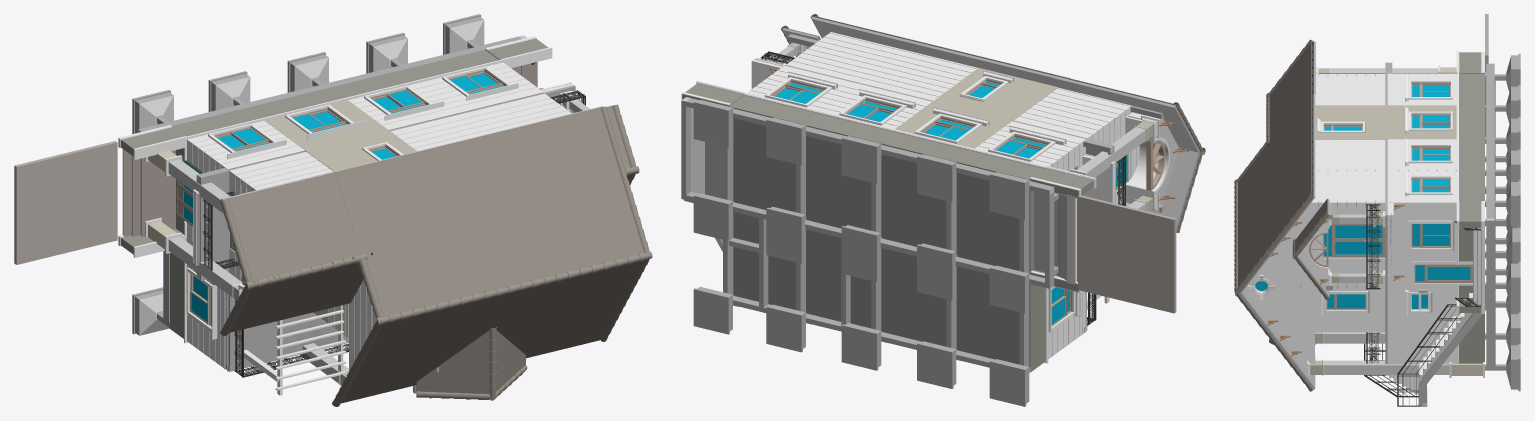
Rendered from Building_DemoAR.gltf.
The picture shows the model from 3 angles, left to right: view 1: azimuth 30°, elevation 25°; view 2: azimuth 150°, elevation 25°; view 3: azimuth 270°, elevation 25°; orthographic projection. The views are drawn at different scales.
Parts seen in each view (by area): view 1: FootPrintRoof Roofs <639650 Generic - 125mm 2>, FootPrintRoof Roofs <640365 Generic - 125mm 2>, Floor Floors <1150203 San gach ngoai san>, Wall Walls <639594 W-Ex - 200mm_Tang 1-Op gach trong>, FamilySymbol Structural Foundations <1166554 Mong don 1400x1 (×6), Wall Walls <639601 W-Ex - 200mm_Op gach trong>, Floor Floors <1172969 Sàn kết cấu 100>, Wall Walls <848535 W-Ex - 30mm>, ExtrusionRoof Roofs <695702 Generic - 125mm 2>, FamilySymbol Windows <1046854 1600x1700> (×3), FamilySymbol Windows <1046924 1600x1700> (×2), FamilySymbol Generic Models <823069 Tipo 2> (+20 smaller); view 2: Floor Floors <639599 BTCT_T.Trệt_Ceramic_500mm>, FamilySymbol Structural Foundations <1166554 Mong don 1400x1 (×12), FamilyInstance Structural Framing M_Concrete-Rectangular Bea (×12), Wall Walls <639601 W-Ex - 200mm_Op gach trong>, Floor Floors <1150203 San gach ngoai san>, Wall Walls <639594 W-Ex - 200mm_Tang 1-Op gach trong>, FamilySymbol Structural Foundations <1166596 Mong don 1400x1 (×3), Wall Walls <848535 W-Ex - 30mm>, FootPrintRoof Roofs <1039391 mai bt>, FamilySymbol Windows <1046854 1600x1700> (×3), FootPrintRoof Roofs <1039385 mai bt>, FamilySymbol Windows <1046924 1600x1700> (×2) (+19 smaller); view 3: Wall Walls <815767 W-Ex - 200mm_Tang 1-Op gach trong>, FootPrintRoof Roofs <639650 Generic - 125mm 2>, Wall Walls <639594 W-Ex - 200mm_Tang 1-Op gach trong>, Wall Walls <639601 W-Ex - 200mm_Op gach trong>, Wall Walls <825141 W-Ex - 200mm_Op gach trong>, FamilySymbol Structural Foundations <1166554 Mong don 1400x1 (×8), Wall Walls <818138 W-Ex - 200mm_Op gach trong>, Wall Walls <848535 W-Ex - 30mm>, FamilyInstance Structural Framing M_Concrete-Rectangular Bea (×4), FamilySymbol Doors <879131 1600 x 2600>, FootPrintRoof Roofs <640365 Generic - 125mm 2>, FamilySymbol Windows <1046924 1600x1700> (×2) (+35 smaller).
Boxes of the visible parts, <box> form: FootPrintRoof Roofs <639650 Generic - 125mm 2>: <box>335,106,644,403</box>; FootPrintRoof Roofs <640365 Generic - 125mm 2>: <box>228,172,363,332</box>; Floor Floors <1150203 San gach ngoai san>: <box>14,141,117,264</box>; Wall Walls <639594 W-Ex - 200mm_Tang 1-Op gach trong>: <box>172,50,543,169</box>; FamilySymbol Structural Foundations <1166554 Mong don 1400x1 (×6): <box>132,14,484,335</box>; Wall Walls <639601 W-Ex - 200mm_Op gach trong>: <box>235,93,571,188</box>; Floor Floors <1172969 Sàn kết cấu 100>: <box>199,85,575,371</box>; Wall Walls <848535 W-Ex - 30mm>: <box>264,100,417,171</box>; ExtrusionRoof Roofs <695702 Generic - 125mm 2>: <box>416,327,525,394</box>; FamilySymbol Windows <1046854 1600x1700> (×3): <box>186,66,510,332</box>; FamilySymbol Windows <1046924 1600x1700> (×2): <box>208,85,432,152</box>; FamilySymbol Generic Models <823069 Tipo 2>: <box>376,251,652,325</box>; Floor Floors <639599 BTCT_T.Trệt_Ceramic_500mm>: <box>733,118,1019,364</box>; FamilySymbol Structural Foundations <1166554 Mong don 1400x1 (×12): <box>693,99,1029,406</box>; FamilyInstance Structural Framing M_Concrete-Rectangular Bea (×12): <box>681,97,1054,367</box>; Wall Walls <639601 W-Ex - 200mm_Op gach trong>: <box>786,32,1126,137</box>; Floor Floors <1150203 San gach ngoai san>: <box>1078,195,1176,313</box>; Wall Walls <639594 W-Ex - 200mm_Tang 1-Op gach trong>: <box>729,65,1085,179</box>; FamilySymbol Structural Foundations <1166596 Mong don 1400x1 (×3): <box>766,206,955,300</box>; Wall Walls <848535 W-Ex - 30mm>: <box>895,68,1058,148</box>; FootPrintRoof Roofs <1039391 mai bt>: <box>1053,76,1200,230</box>; FamilySymbol Windows <1046854 1600x1700> (×3): <box>764,77,1075,332</box>; FootPrintRoof Roofs <1039385 mai bt>: <box>811,16,1068,86</box>; FamilySymbol Windows <1046924 1600x1700> (×2): <box>839,95,1055,161</box>; Wall Walls <815767 W-Ex - 200mm_Tang 1-Op gach trong>: <box>1387,207,1484,364</box>; FootPrintRoof Roofs <639650 Generic - 125mm 2>: <box>1238,86,1311,387</box>; Wall Walls <639594 W-Ex - 200mm_Tang 1-Op gach trong>: <box>1387,73,1484,207</box>; Wall Walls <639601 W-Ex - 200mm_Op gach trong>: <box>1308,76,1385,207</box>; Wall Walls <825141 W-Ex - 200mm_Op gach trong>: <box>1244,207,1314,370</box>; FamilySymbol Structural Foundations <1166554 Mong don 1400x1 (×8): <box>1506,53,1520,391</box>; Wall Walls <818138 W-Ex - 200mm_Op gach trong>: <box>1310,207,1385,327</box>; Wall Walls <848535 W-Ex - 30mm>: <box>1315,105,1456,139</box>; FamilyInstance Structural Framing M_Concrete-Rectangular Bea (×4): <box>1420,76,1495,383</box>; FamilySymbol Doors <879131 1600 x 2600>: <box>1320,224,1385,260</box>; FootPrintRoof Roofs <640365 Generic - 125mm 2>: <box>1269,41,1311,139</box>; FamilySymbol Windows <1046924 1600x1700> (×2): <box>1408,79,1452,163</box>.
Size of the model in its own units: 21059 by 9565 by 12052.
